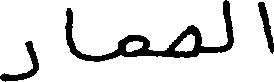ا: (254, 0, 272, 55), (64, 5, 73, 55)
ر: (0, 38, 37, 79)
ص: (169, 23, 200, 58)
ل: (215, 0, 238, 54)
م: (117, 32, 146, 56)
